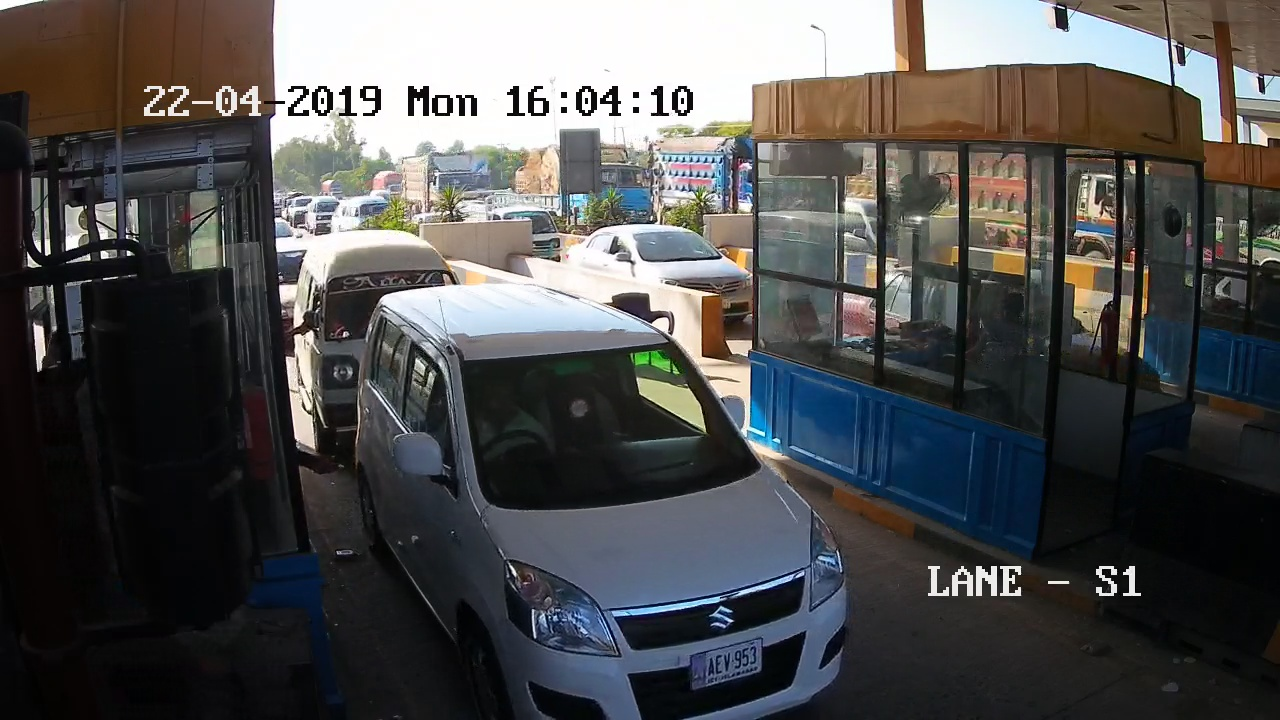Number Plate (Car): (692, 644, 769, 683)
